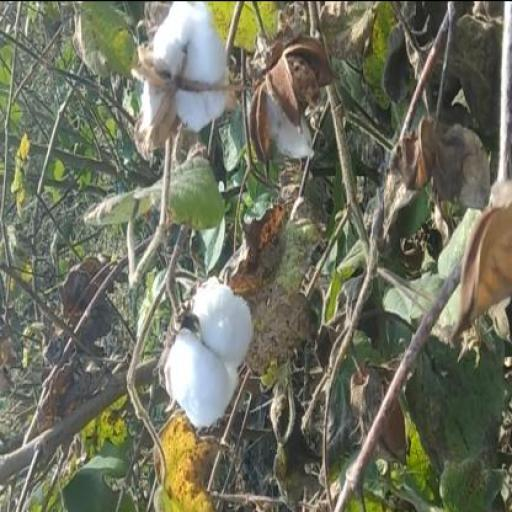cotton_ready: (160, 232, 270, 438), (119, 1, 239, 164)
